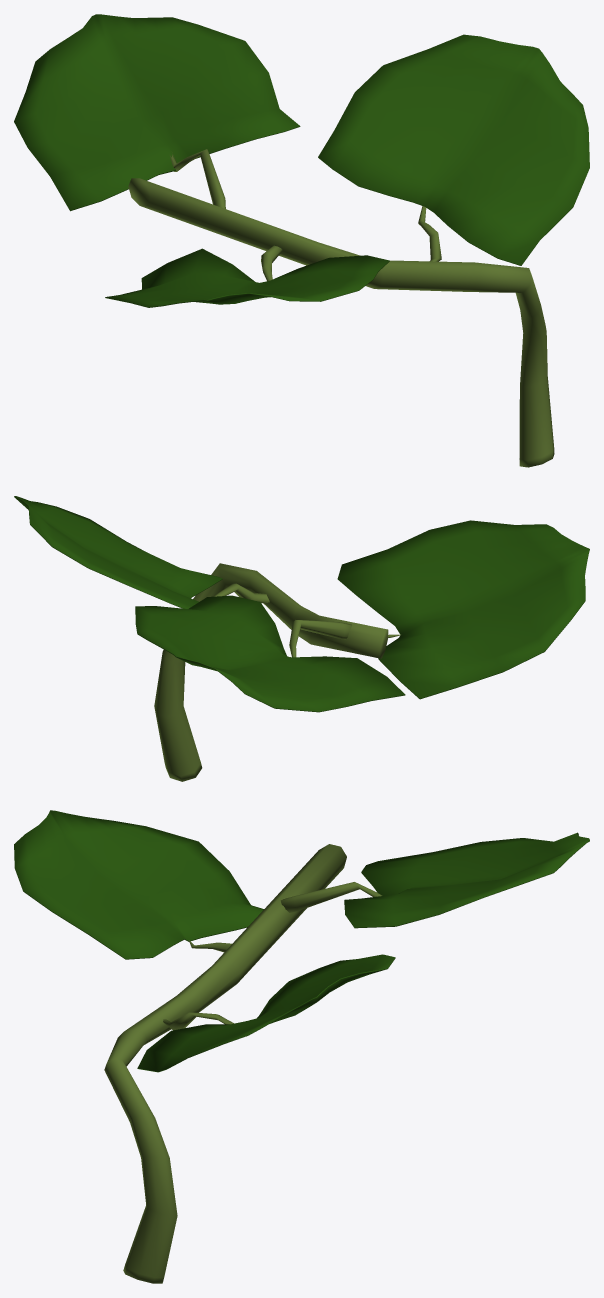
File: MelaoBroto.fbx
3 views of the same model, one above another, from view 1: azimuth 30°, elevation 25°; view 2: azimuth 150°, elevation 25°; view 3: azimuth 270°, elevation 25° (orthographic). The views are drawn at different scales.
Parts seen in each view (by area): view 1: MelaoBroto; view 2: MelaoBroto; view 3: MelaoBroto.
Part boxes in pixels (bbox=[...]): MelaoBroto: bbox=[14, 14, 589, 467]; MelaoBroto: bbox=[14, 496, 589, 781]; MelaoBroto: bbox=[14, 810, 589, 1283].
Bounding box in the file's own units: 23.17 × 14.93 × 23.03.
